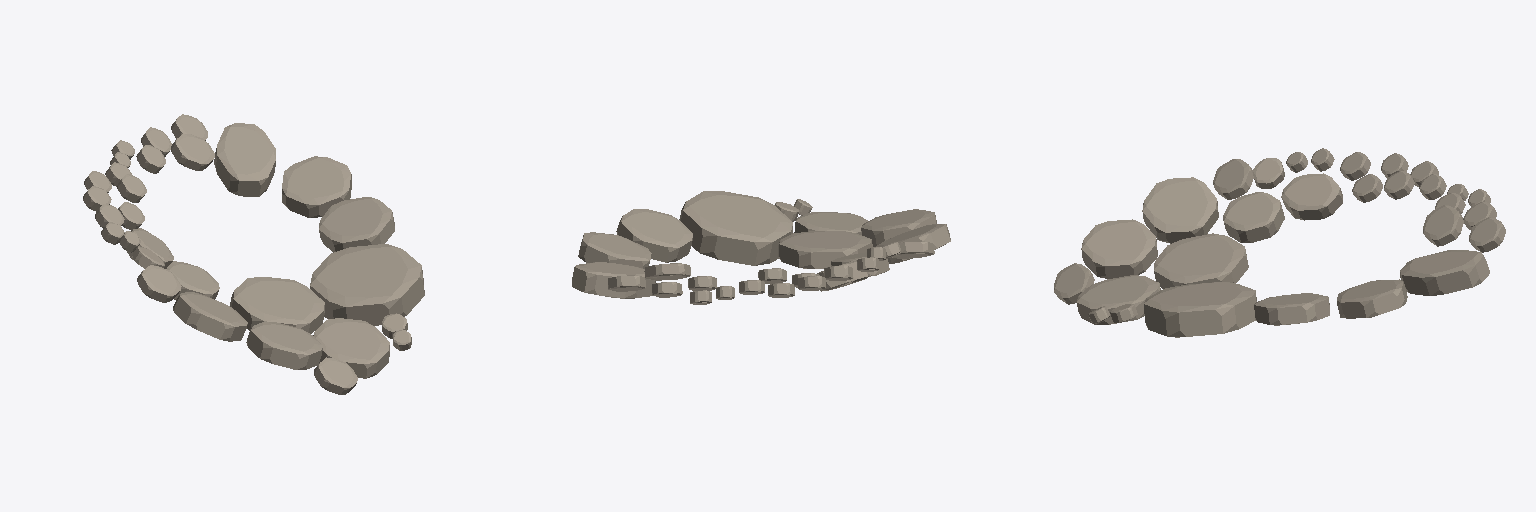
Rendered from platinum.obj.
3 renders of one model, left to right at view 1: azimuth 30°, elevation 25°; view 2: azimuth 150°, elevation 25°; view 3: azimuth 270°, elevation 25°, orthographic.
Visible parts, largest first — view 1: Cylinder.001_Cylinder.002, Cylinder, Cylinder.005_Cylinder.006, Cylinder.003_Cylinder.004, Cylinder.004_Cylinder.005, Cylinder.002_Cylinder.003, Cylinder.020_Cylinder.021, Cylinder.021_Cylinder.022, Cylinder.022_Cylinder.023, Cylinder.028_Cylinder.029, Cylinder.019_Cylinder.020, Cylinder.006_Cylinder.007 (+4 smaller); view 2: Cylinder.001_Cylinder.002, Cylinder.004_Cylinder.005, Cylinder, Cylinder.003_Cylinder.004, Cylinder.005_Cylinder.006, Cylinder.020_Cylinder.021, Cylinder.002_Cylinder.003, Cylinder.021_Cylinder.022, Cylinder.019_Cylinder.020, Cylinder.018_Cylinder.019, Cylinder.022_Cylinder.023; view 3: Cylinder.001_Cylinder.002, Cylinder, Cylinder.021_Cylinder.022, Cylinder.020_Cylinder.021, Cylinder.005_Cylinder.006, Cylinder.006_Cylinder.007, Cylinder.002_Cylinder.003, Cylinder.007_Cylinder.008, Cylinder.003_Cylinder.004, Cylinder.004_Cylinder.005, Cylinder.022_Cylinder.023, Cylinder.019_Cylinder.020 (+7 smaller).
Boxes of the visible parts, x1=… form: Cylinder.001_Cylinder.002: x1=310, y1=244, x2=424, y2=325; Cylinder: x1=230, y1=277, x2=324, y2=333; Cylinder.005_Cylinder.006: x1=214, y1=123, x2=275, y2=196; Cylinder.003_Cylinder.004: x1=282, y1=156, x2=351, y2=217; Cylinder.004_Cylinder.005: x1=319, y1=197, x2=394, y2=252; Cylinder.002_Cylinder.003: x1=313, y1=318, x2=389, y2=378; Cylinder.020_Cylinder.021: x1=246, y1=321, x2=322, y2=369; Cylinder.021_Cylinder.022: x1=173, y1=292, x2=247, y2=341; Cylinder.022_Cylinder.023: x1=137, y1=265, x2=181, y2=302; Cylinder.028_Cylinder.029: x1=314, y1=357, x2=357, y2=394; Cylinder.019_Cylinder.020: x1=171, y1=134, x2=214, y2=170; Cylinder.006_Cylinder.007: x1=166, y1=261, x2=219, y2=299; Cylinder.001_Cylinder.002: x1=679, y1=191, x2=792, y2=265; Cylinder.004_Cylinder.005: x1=616, y1=209, x2=692, y2=262; Cylinder: x1=778, y1=231, x2=872, y2=268; Cylinder.003_Cylinder.004: x1=578, y1=232, x2=651, y2=268; Cylinder.005_Cylinder.006: x1=572, y1=262, x2=655, y2=298; Cylinder.020_Cylinder.021: x1=861, y1=209, x2=936, y2=246; Cylinder.002_Cylinder.003: x1=794, y1=212, x2=867, y2=234; Cylinder.021_Cylinder.022: x1=876, y1=224, x2=950, y2=263; Cylinder.019_Cylinder.020: x1=644, y1=263, x2=690, y2=280; Cylinder.018_Cylinder.019: x1=608, y1=275, x2=645, y2=291; Cylinder.022_Cylinder.023: x1=892, y1=241, x2=934, y2=258; Cylinder.001_Cylinder.002: x1=1144, y1=282, x2=1256, y2=337; Cylinder: x1=1154, y1=233, x2=1248, y2=288; Cylinder.021_Cylinder.022: x1=1142, y1=177, x2=1218, y2=243; Cylinder.020_Cylinder.021: x1=1081, y1=219, x2=1157, y2=278; Cylinder.005_Cylinder.006: x1=1400, y1=250, x2=1489, y2=295; Cylinder.006_Cylinder.007: x1=1223, y1=192, x2=1284, y2=242; Cylinder.002_Cylinder.003: x1=1077, y1=275, x2=1160, y2=324; Cylinder.007_Cylinder.008: x1=1281, y1=173, x2=1342, y2=220; Cylinder.003_Cylinder.004: x1=1337, y1=279, x2=1407, y2=318; Cylinder.004_Cylinder.005: x1=1254, y1=293, x2=1329, y2=325; Cylinder.022_Cylinder.023: x1=1213, y1=159, x2=1253, y2=199; Cylinder.019_Cylinder.020: x1=1423, y1=205, x2=1463, y2=246.
Bounding box in the file's own units: 15.87 × 5.78 × 22.3.